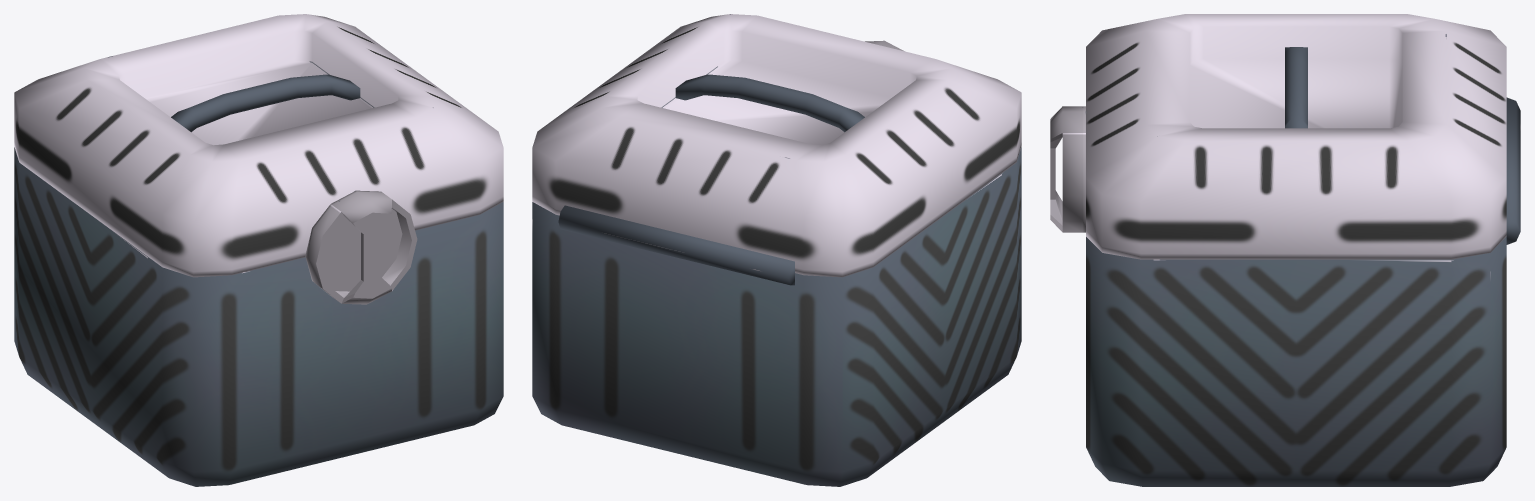
File: Container2.fbx_Collection.fbx
3 renders of one model, left to right at view 1: azimuth 30°, elevation 25°; view 2: azimuth 150°, elevation 25°; view 3: azimuth 270°, elevation 25°, orthographic. The views are drawn at different scales.
Visible parts, largest first — view 1: Container2, Cube.001, Cylinder.001, Cube.002; view 2: Container2, Cube.001, Cylinder, Cube.002; view 3: Cube.001, Container2, Cylinder.001, Cylinder, Cube.002.
Boxes of the visible parts, bbox=[...] form: Container2: bbox=[14, 147, 503, 486]; Cube.001: bbox=[14, 14, 503, 277]; Cylinder.001: bbox=[305, 190, 417, 304]; Cube.002: bbox=[171, 74, 360, 132]; Container2: bbox=[532, 147, 1021, 486]; Cube.001: bbox=[532, 14, 1021, 277]; Cylinder: bbox=[558, 205, 795, 285]; Cube.002: bbox=[675, 74, 864, 132]; Cube.001: bbox=[1086, 14, 1506, 259]; Container2: bbox=[1086, 237, 1506, 486]; Cylinder.001: bbox=[1050, 106, 1086, 232]; Cylinder: bbox=[1506, 97, 1520, 244]; Cube.002: bbox=[1285, 47, 1307, 128].
Size of the model in its own units: 200 by 175 by 223.
